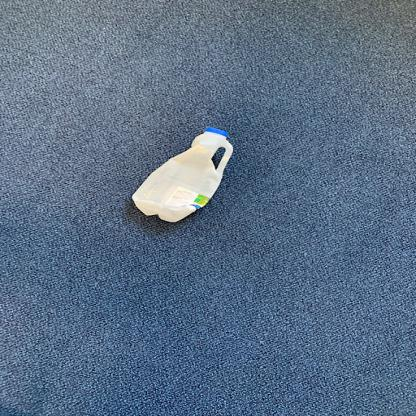trash: (132, 126, 239, 226)
